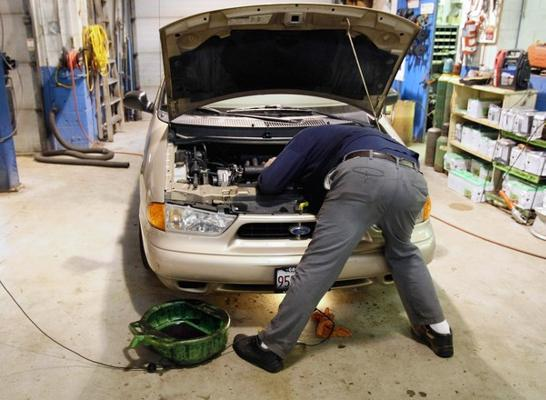person: (230, 123, 455, 375)
